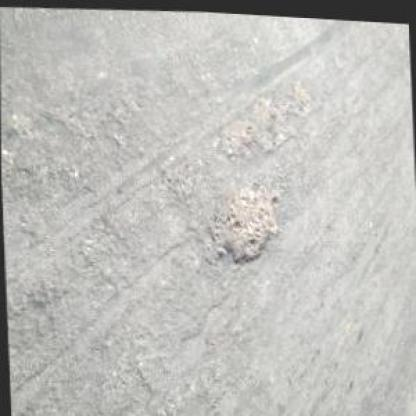pothole: (212, 70, 311, 164), (205, 172, 284, 268)
